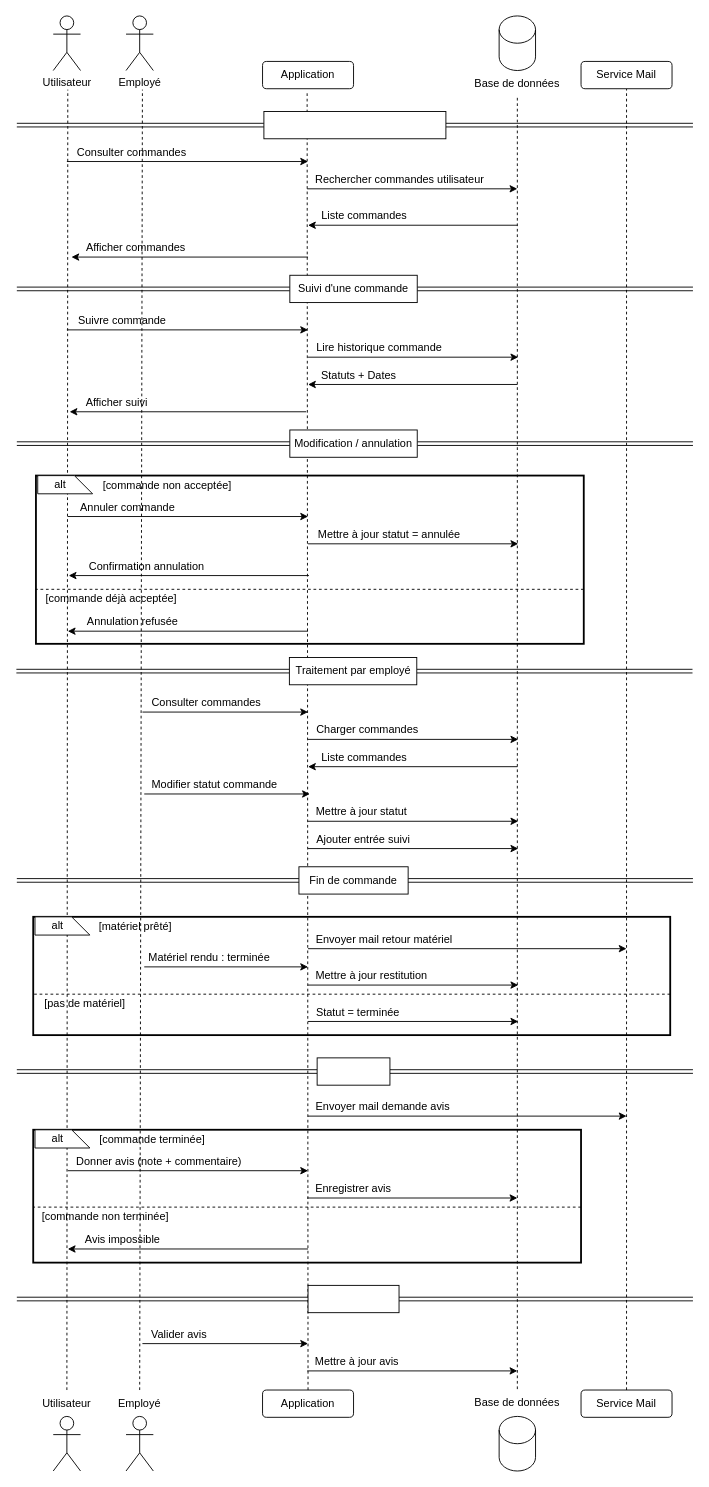
Some shapes in this 709 by 1487 pixel diagram are drawn without their labels. The box of each missing label's shape, as (x1, y1, x2, y2) in pixels:
Avis client: (316, 1057, 390, 1085)
Consultation des commandes: (263, 111, 446, 139)
Validation avis: (307, 1284, 399, 1313)
